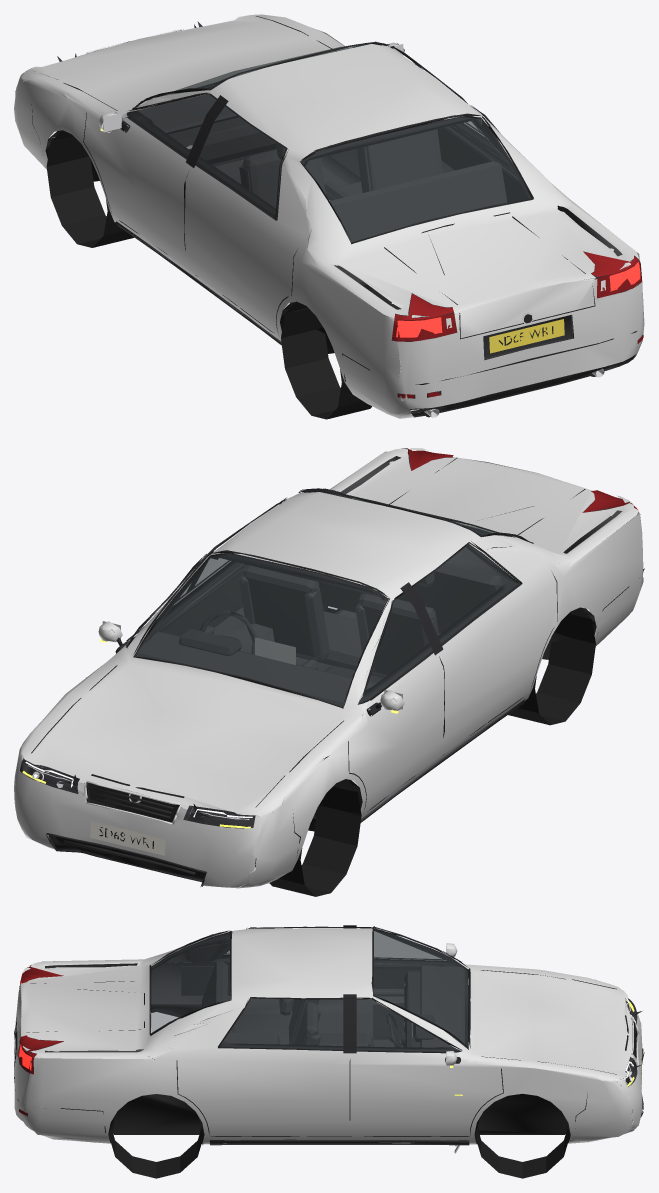
The model's file is civ_sedan_traffic.glb.
3 views of the same model, one above another, from view 1: azimuth 30°, elevation 25°; view 2: azimuth 150°, elevation 25°; view 3: azimuth 270°, elevation 25° (orthographic). The views are drawn at different scales.
Visible parts, largest first — view 1: civ_sedan; view 2: civ_sedan; view 3: civ_sedan.
Part boxes in pixels (x1,y1,x2,y2): civ_sedan: [14, 14, 644, 419]; civ_sedan: [14, 448, 644, 896]; civ_sedan: [14, 925, 644, 1178].
Bounding box in the file's own units: 2.09 × 1.49 × 4.81.
